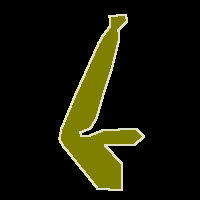tie: (59, 14, 144, 190)
